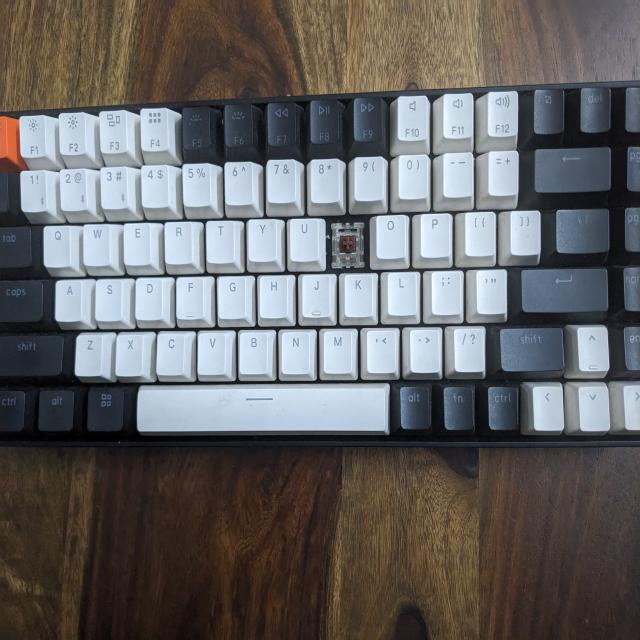C: (332, 225, 363, 268)
